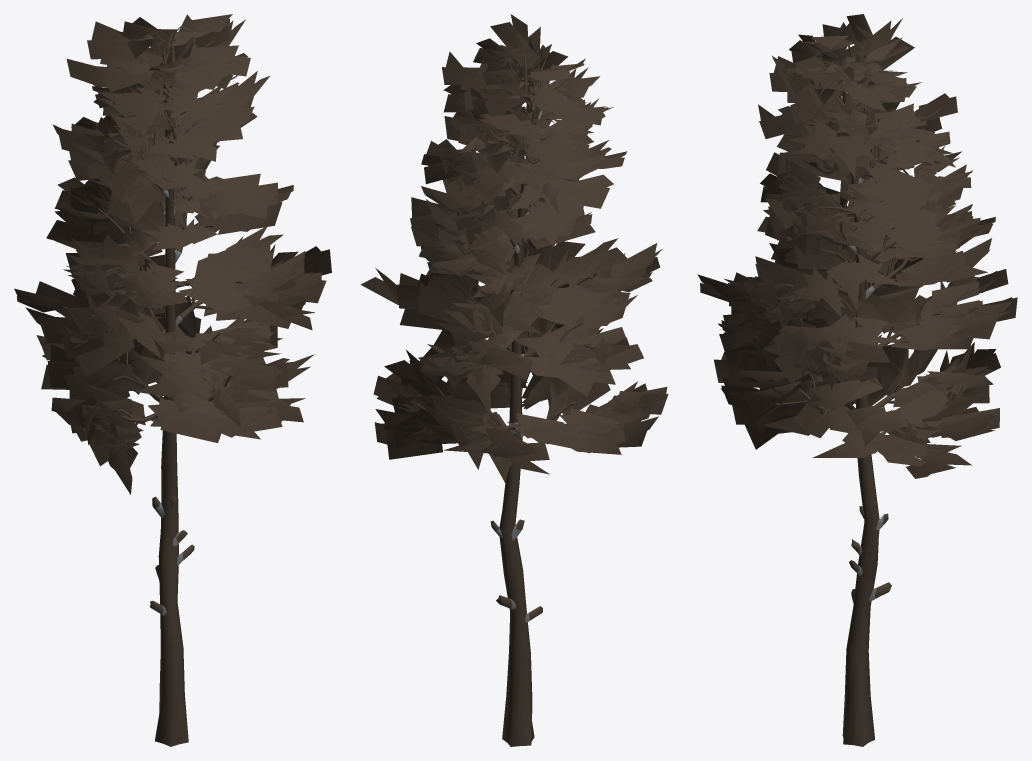
The model's file is choppable_conifer.fbx.
3 views of the same model, side by side, from view 1: azimuth 30°, elevation 25°; view 2: azimuth 150°, elevation 25°; view 3: azimuth 270°, elevation 25° (orthographic). The views are drawn at different scales.
Visible parts, largest first — view 1: Conifer_Desktop; view 2: Conifer_Desktop; view 3: Conifer_Desktop.
Boxes of the visible parts, x1,y1,x2,y2 form: Conifer_Desktop: (14,14,331,746); Conifer_Desktop: (360,14,668,746); Conifer_Desktop: (697,14,1017,746).
Size of the model in its own units: 1240 by 2978 by 1203.
